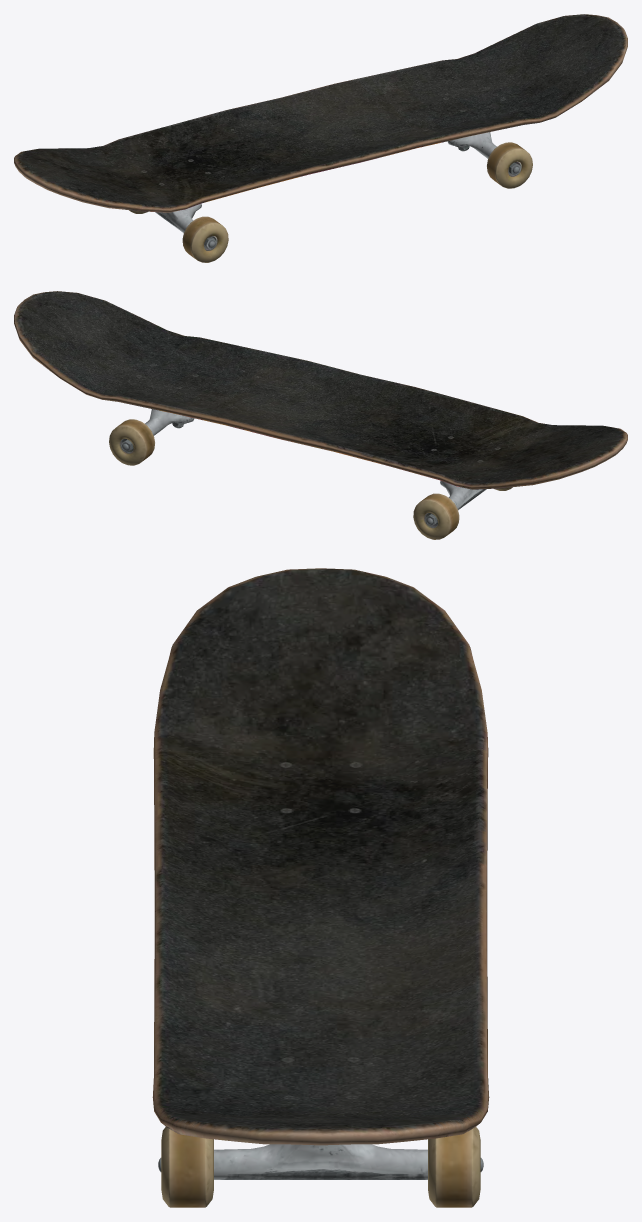
Rendered from skateboard.glb.
3 renders of one model, top to bottom at view 1: azimuth 30°, elevation 25°; view 2: azimuth 150°, elevation 25°; view 3: azimuth 270°, elevation 25°, orthographic. The views are drawn at different scales.
Parts seen in each view (by area): view 1: deck_low_skatie_0, wheel_2_low_skatie_0 (×2), trucks_hanger_2_low_skatie_0, trucks_hanger_1_low_skatie_0; view 2: deck_low_skatie_0, wheel_1_low_skatie_0 (×2), trucks_hanger_2_low_skatie_0, trucks_hanger_1_low_skatie_0; view 3: deck_low_skatie_0, trucks_hanger_2_low_skatie_0, wheel_1_low_skatie_0, wheel_2_low_skatie_0.
Boxes of the visible parts, left/top/right/bottom form: deck_low_skatie_0: left=14, top=14, right=627, bottom=212; wheel_2_low_skatie_0 (×2): left=182, top=142, right=532, bottom=262; trucks_hanger_2_low_skatie_0: left=447, top=132, right=496, bottom=158; trucks_hanger_1_low_skatie_0: left=155, top=203, right=201, bottom=232; deck_low_skatie_0: left=14, top=291, right=627, bottom=489; wheel_1_low_skatie_0 (×2): left=109, top=419, right=459, bottom=539; trucks_hanger_2_low_skatie_0: left=145, top=409, right=194, bottom=435; trucks_hanger_1_low_skatie_0: left=440, top=480, right=486, bottom=509; deck_low_skatie_0: left=152, top=568, right=489, bottom=1145; trucks_hanger_2_low_skatie_0: left=214, top=1144, right=427, bottom=1179; wheel_1_low_skatie_0: left=428, top=1127, right=480, bottom=1207; wheel_2_low_skatie_0: left=161, top=1127, right=213, bottom=1207.
Size of the model in its own units: 80.85 by 13.6 by 19.84.
Materials: 1 (1 with a texture image).
